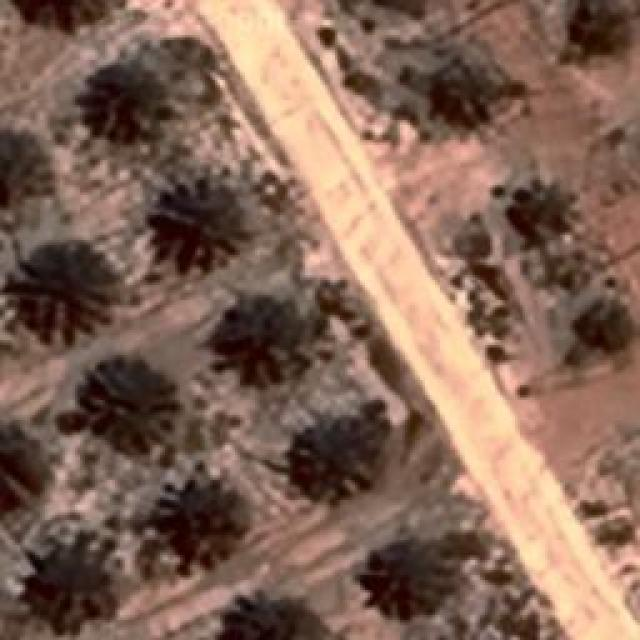PalmTree: (15, 86, 52, 475), (5, 245, 105, 345), (151, 182, 249, 270), (84, 370, 178, 452), (86, 62, 172, 146), (32, 546, 116, 632), (224, 301, 312, 379), (287, 415, 365, 500), (161, 488, 241, 556), (435, 50, 505, 125), (358, 542, 440, 606), (220, 594, 312, 638), (511, 175, 579, 233), (576, 297, 636, 355), (11, 0, 118, 26), (576, 0, 626, 40), (14, 0, 114, 18)
